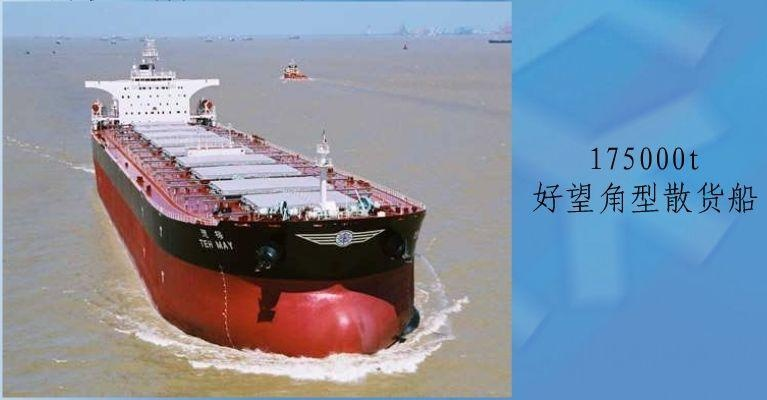Cargoship: (84, 29, 431, 362)
